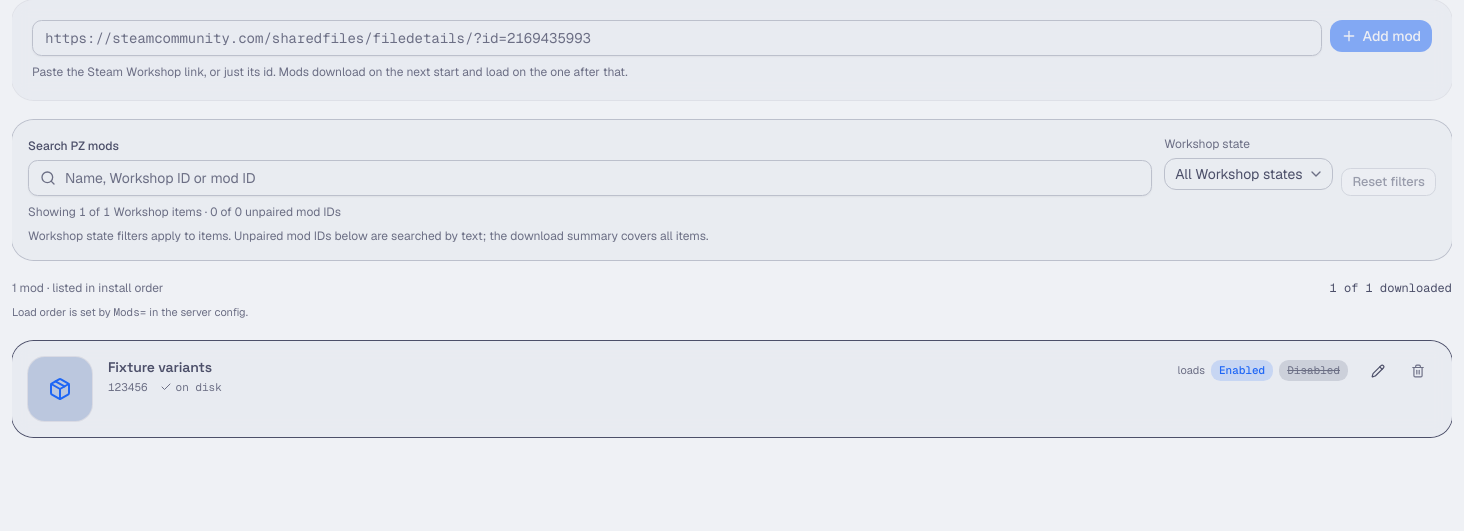
Test: sends the PZ mod list INI revision for POST
Expected: the text "Fixture variants" is shown, x1=108 y1=356 x2=222 y2=376
Replace the text in the field with placeholder "steamcommunity" with "987654" at {"x": 677, "y": 38}, box x1=32 y1=20 x2=1322 y2=56
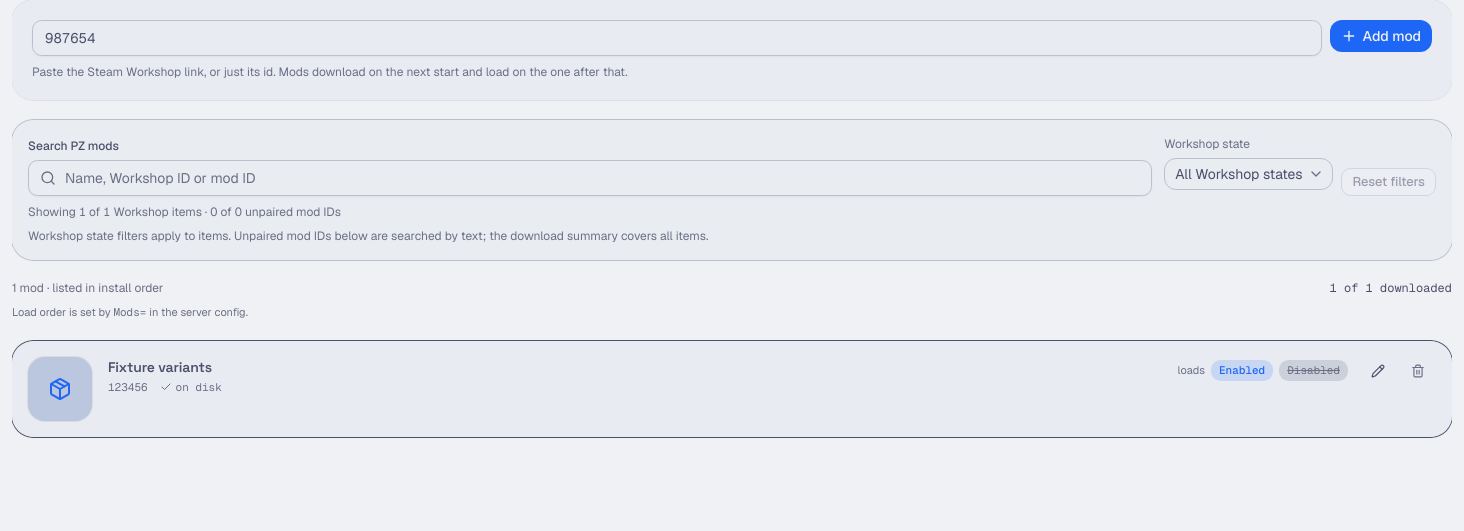
Click the button "Add mod" at {"x": 1381, "y": 36}, box x1=1330 y1=20 x2=1432 y2=52
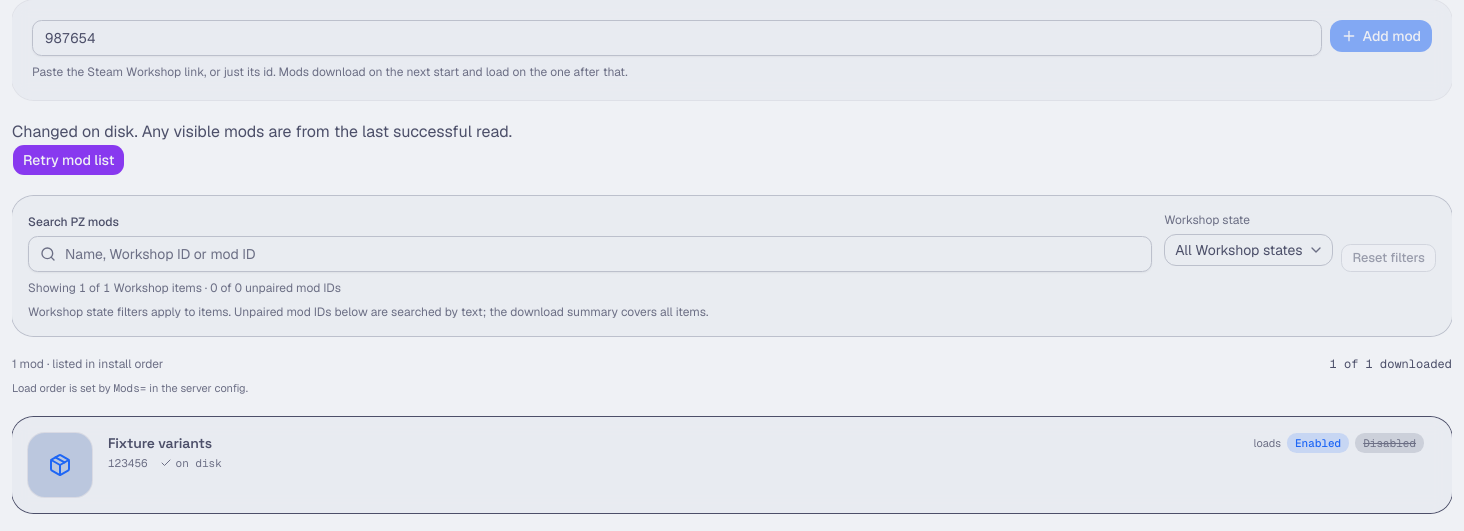
Result: the message that starts with "Changed on disk" is shown at x1=12 y1=121 x2=512 y2=176
